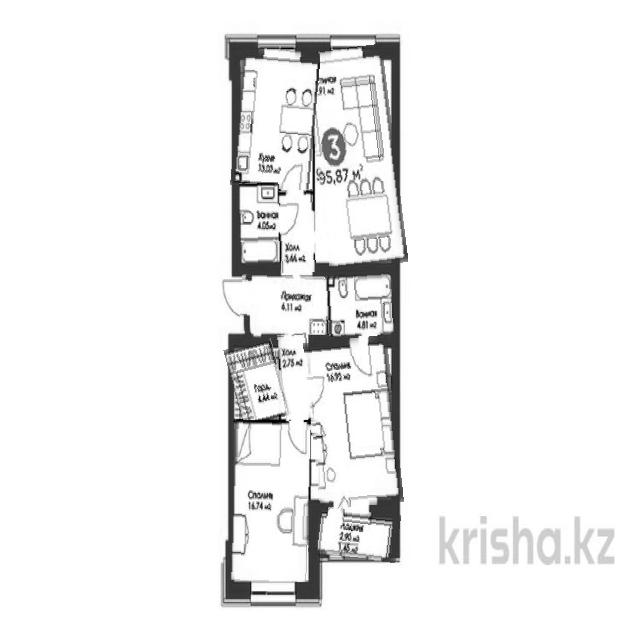balcony: (310, 507, 400, 561)
bathroom: (325, 271, 396, 337), (234, 183, 281, 271)
hallway: (240, 275, 330, 334), (279, 190, 315, 273), (279, 333, 312, 420)
kitchen: (233, 48, 318, 190)
living_room: (310, 46, 401, 270), (308, 337, 400, 509), (231, 420, 310, 581)
other: (228, 341, 287, 425)
